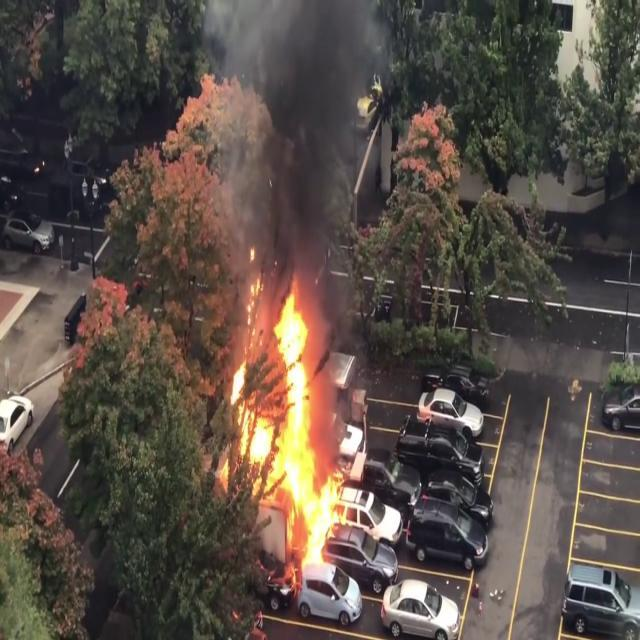Fire: (222, 255, 347, 583)
Smoke: (214, 0, 384, 303)
